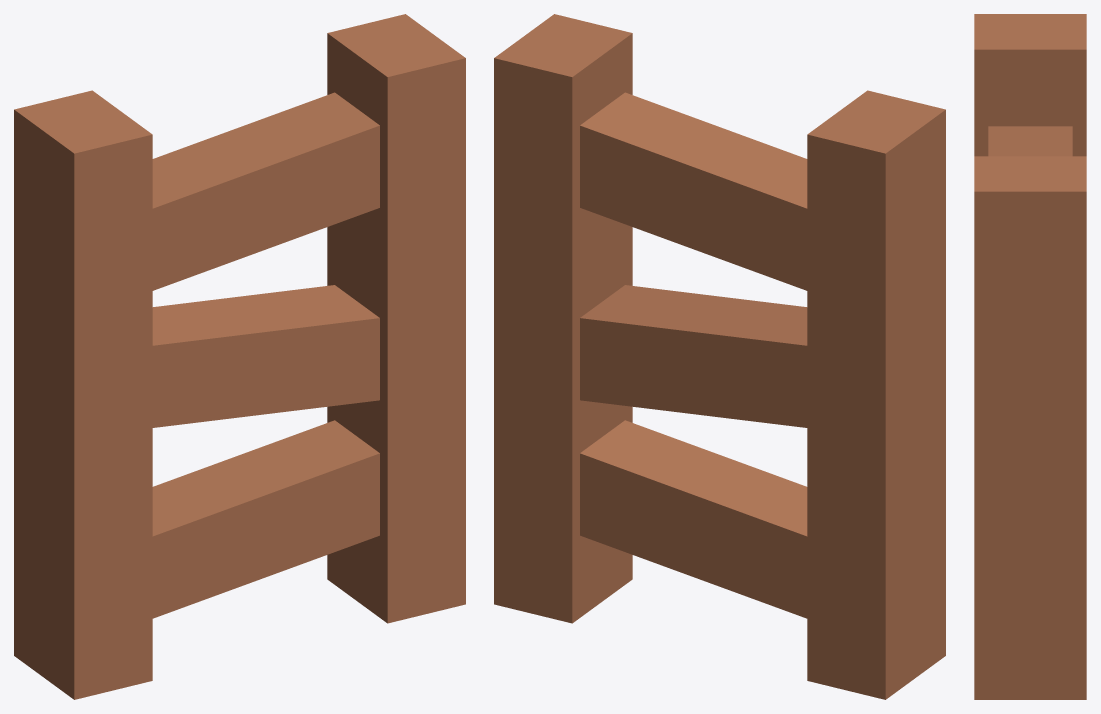
The model's file is Ladder.gltf.
3 views of the same model, side by side, from view 1: azimuth 30°, elevation 25°; view 2: azimuth 150°, elevation 25°; view 3: azimuth 270°, elevation 25° (orthographic). The views are drawn at different scales.
Visible parts, largest first — view 1: Cube; view 2: Cube; view 3: Cube.
Boxes of the visible parts, box(x1,y1,x2,y2) form: Cube: box(14, 14, 465, 699); Cube: box(494, 14, 945, 699); Cube: box(974, 14, 1086, 699).
Bounding box in the file's own units: 0.75 × 1 × 0.2.
1 material, 1 textured.
